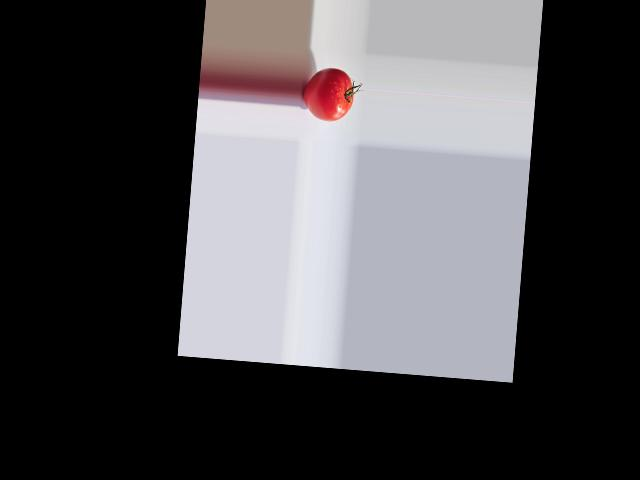tomato: (301, 66, 354, 123)
